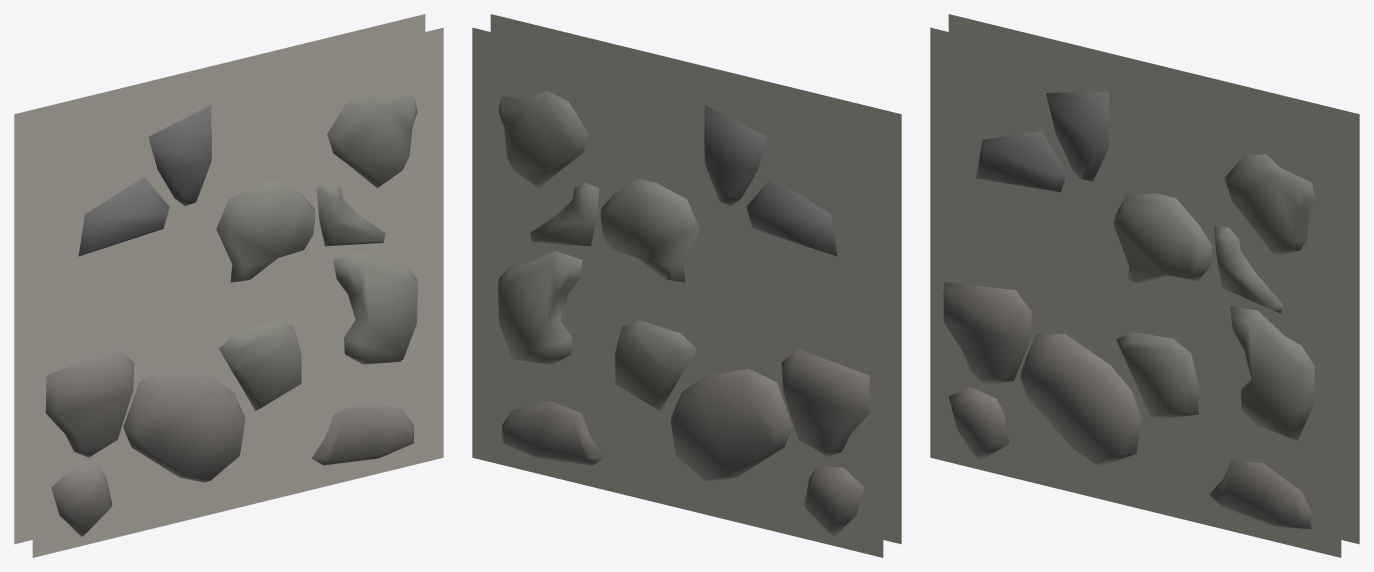
Rendered from rpgpp_ag_wall_04_3x3_b.fbx.
3 renders of one model, left to right at view 1: azimuth 30°, elevation 25°; view 2: azimuth 150°, elevation 25°; view 3: azimuth 330°, elevation 25°, orthographic.
Visible parts, largest first — view 1: rpgpp_ag_wall_04_3x3_b; view 2: rpgpp_ag_wall_04_3x3_b; view 3: rpgpp_ag_wall_04_3x3_b.
Part boxes in pixels (left/top/right/bottom): rpgpp_ag_wall_04_3x3_b: left=14, top=14, right=443, bottom=557; rpgpp_ag_wall_04_3x3_b: left=472, top=14, right=901, bottom=557; rpgpp_ag_wall_04_3x3_b: left=930, top=14, right=1359, bottom=557.
Bounding box in the file's own units: 3 × 3 × 0.404.
